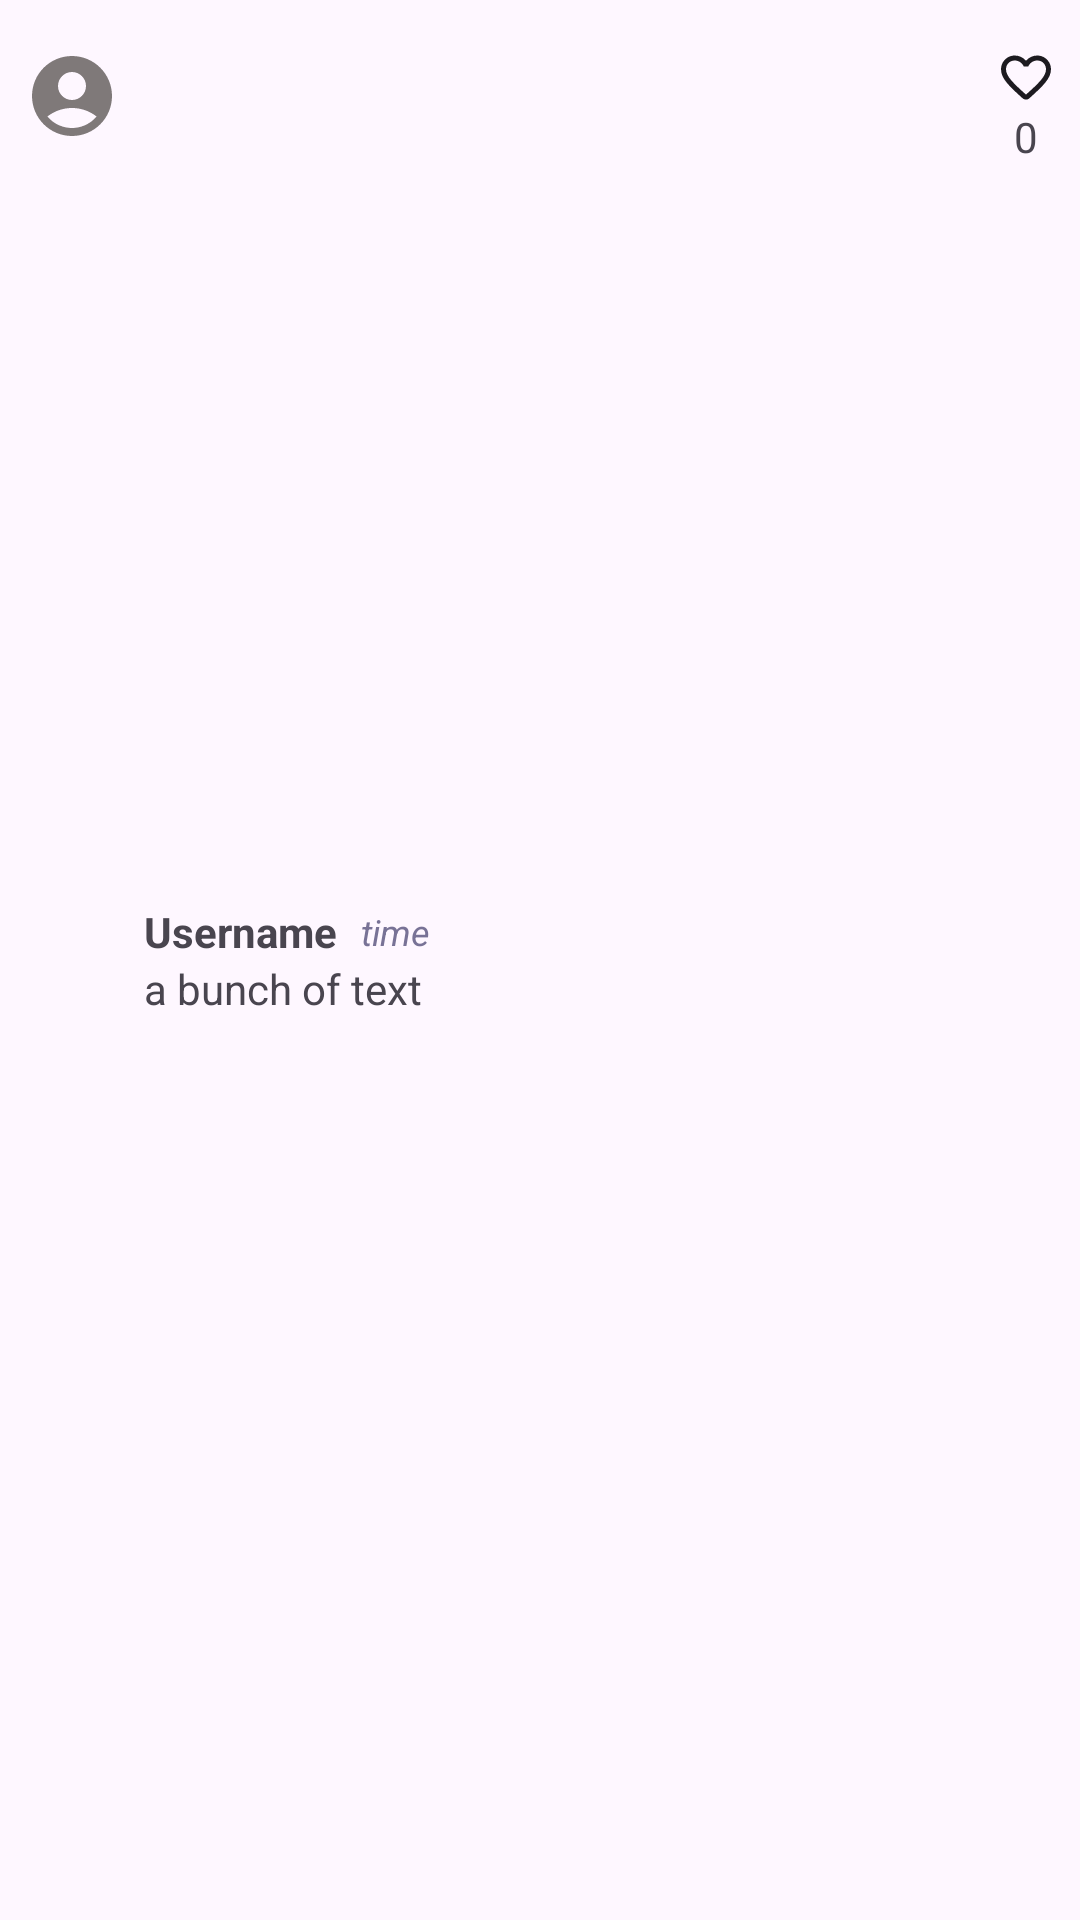

Point at icon controls on the screen. Image size 1080 x 1920, points as point (x, y).
account circle: point (72, 96)
like: point (1026, 77)
